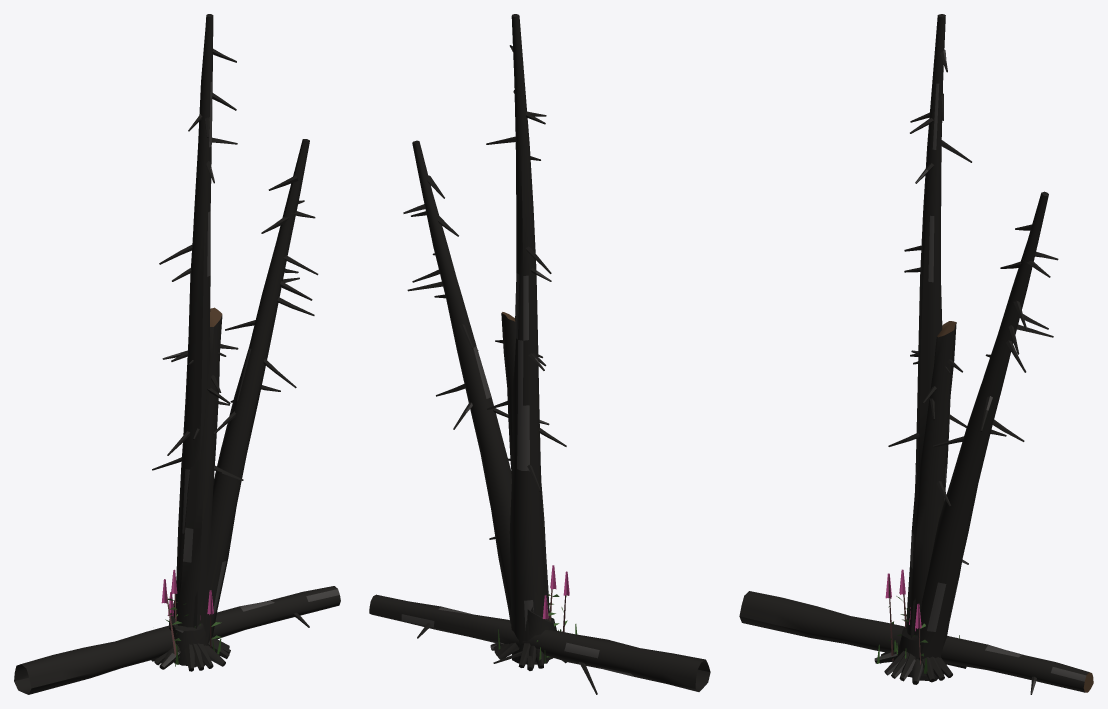
The model's file is burnt-props.glb.
3 views of the same model, side by side, from view 1: azimuth 30°, elevation 25°; view 2: azimuth 150°, elevation 25°; view 3: azimuth 330°, elevation 25° (orthographic). The views are drawn at different scales.
Parts seen in each view (by area): view 1: snag_leaning, snag_tall, log_fallen, snag_broken, stump, fireweed; view 2: snag_tall, snag_leaning, log_fallen, snag_broken, stump, fireweed; view 3: snag_leaning, log_fallen, snag_tall, snag_broken, stump, fireweed.
Boxes of the visible parts, x1,y1,x2,y2 form: snag_leaning: (151,139,318,671); snag_tall: (159,14,237,668); log_fallen: (14,586,340,694); snag_broken: (152,307,243,670); stump: (159,600,225,669); fireweed: (161,569,221,659); snag_tall: (486,14,566,668); snag_leaning: (403,140,566,667); log_fallen: (369,594,710,694); snag_broken: (489,312,552,668); stump: (490,609,556,670); fireweed: (542,565,569,631); snag_leaning: (884,191,1058,682); log_fallen: (739,591,1093,694); snag_tall: (880,14,971,681); snag_broken: (881,321,968,680); stump: (874,627,966,684); fireweed: (885,569,927,664).
Bounding box in the file's own units: 5.01 × 9.56 × 1.27.
